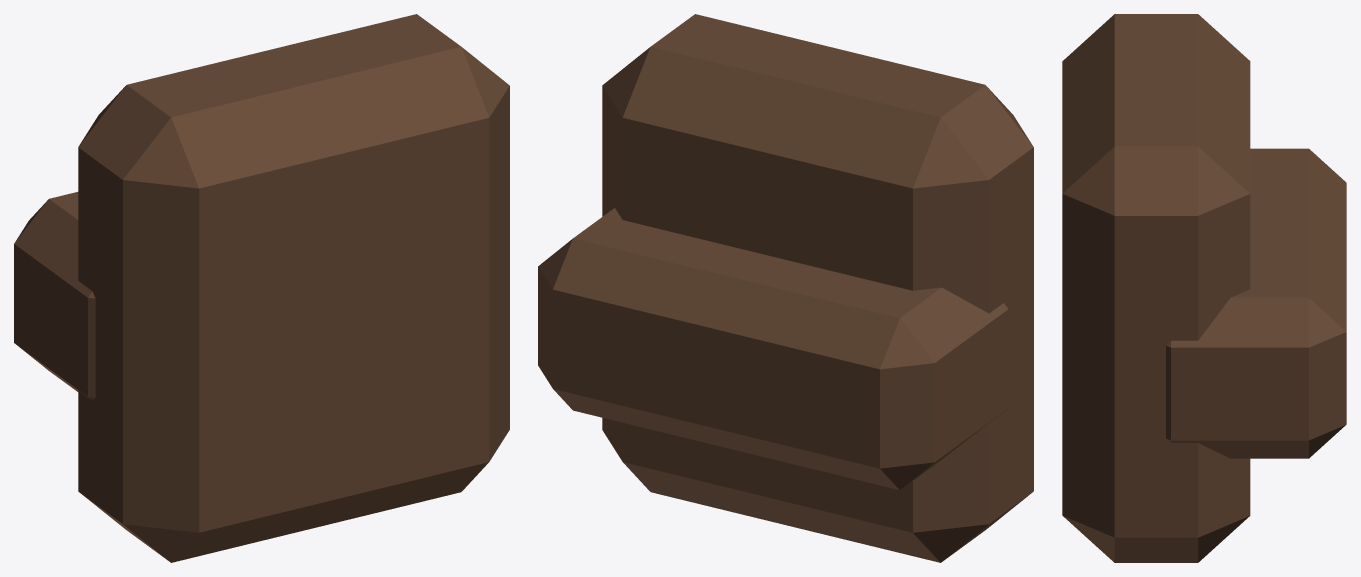
Rendered from eqp_pouch_embervale.glb.
The picture shows the model from 3 angles, left to right: view 1: azimuth 30°, elevation 25°; view 2: azimuth 150°, elevation 25°; view 3: azimuth 270°, elevation 25°; orthographic projection. The views are drawn at different scales.
Parts seen in each view (by area): view 1: UtilityPouch, PouchFlap; view 2: UtilityPouch, PouchFlap; view 3: UtilityPouch, PouchFlap.
Boxes of the visible parts, box(x1,y1,x2,y2) form: UtilityPouch: box(78, 14, 509, 562); PouchFlap: box(14, 192, 95, 400); UtilityPouch: box(602, 14, 1033, 562); PouchFlap: box(538, 208, 1008, 490); UtilityPouch: box(1062, 14, 1250, 562); PouchFlap: box(1166, 148, 1346, 458).
Bounding box in the file's own units: 0.205 × 0.22 × 0.136.
